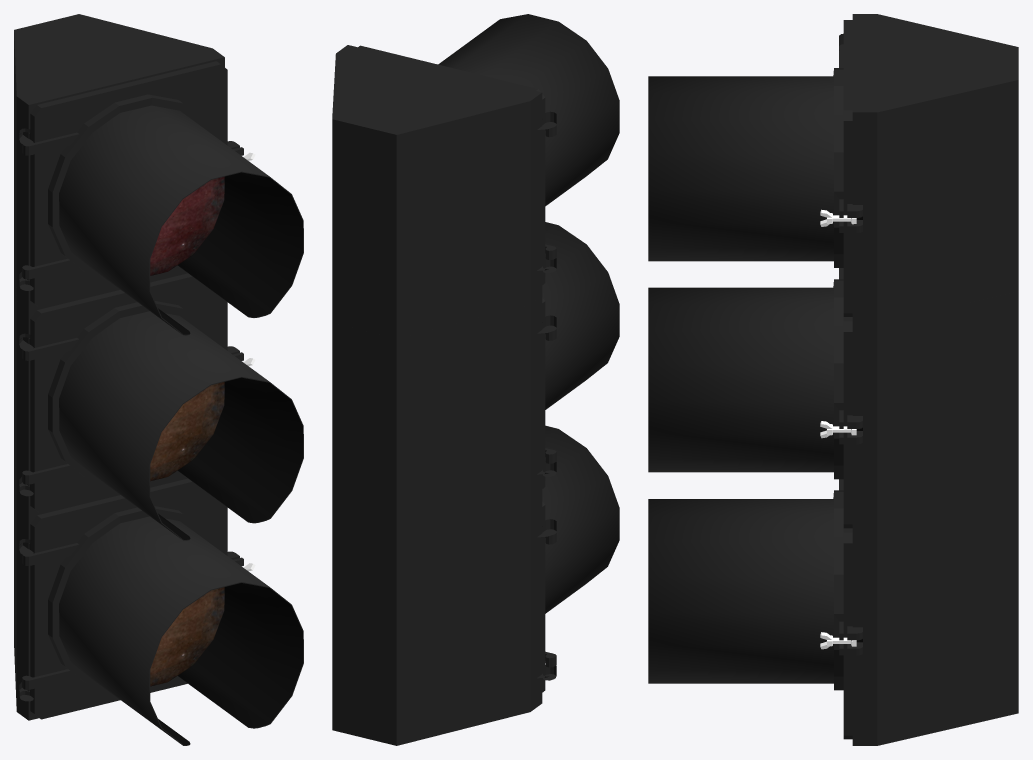
File: unknown.gltf
The picture shows the model from 3 angles, left to right: view 1: azimuth 30°, elevation 25°; view 2: azimuth 150°, elevation 25°; view 3: azimuth 270°, elevation 25°; orthographic projection. The views are drawn at different scales.
Visible parts, largest first — view 1: Cylinder.315; view 2: Cylinder.315; view 3: Cylinder.315.
Part boxes in pixels (box(x1,y1,x2,y2)): Cylinder.315: box(14, 14, 303, 745); Cylinder.315: box(332, 14, 619, 745); Cylinder.315: box(648, 14, 1018, 745).
Bounding box in the file's own units: 0.3053 × 0.8096 × 0.4291.
Materials: 6 (2 with a texture image).
